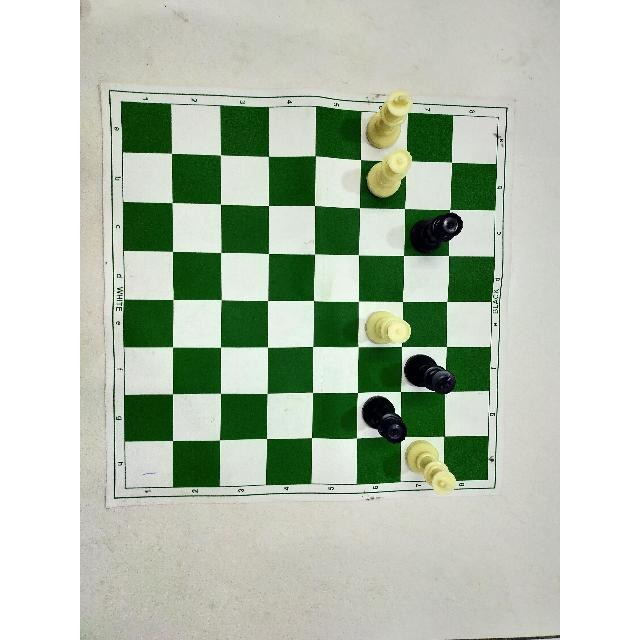black-king: (402, 351, 458, 397)
black-queen: (404, 206, 467, 257), (358, 391, 410, 448)
white-king: (363, 87, 415, 152), (403, 438, 457, 498)
white-queen: (362, 148, 414, 202), (362, 307, 413, 348)
